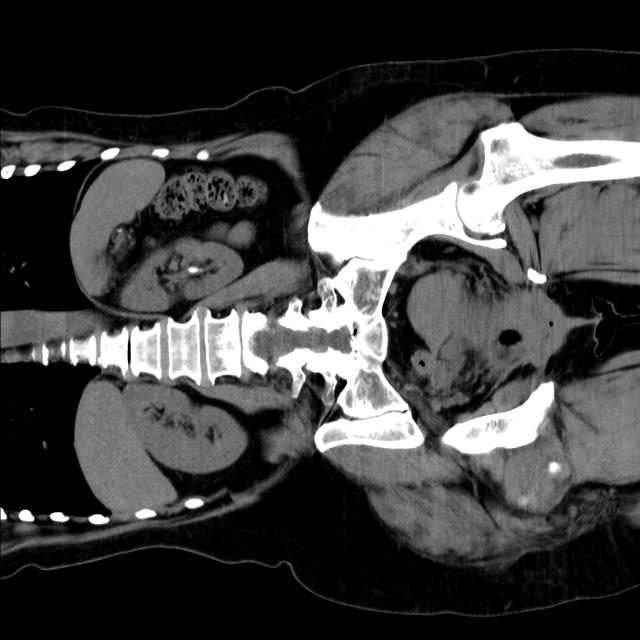kidneystone: (188, 264, 203, 273)
